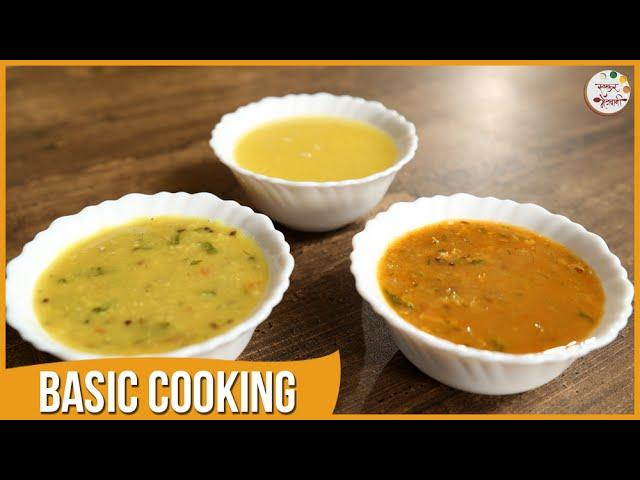varan: (376, 217, 632, 365), (34, 233, 272, 351), (213, 95, 404, 194)
